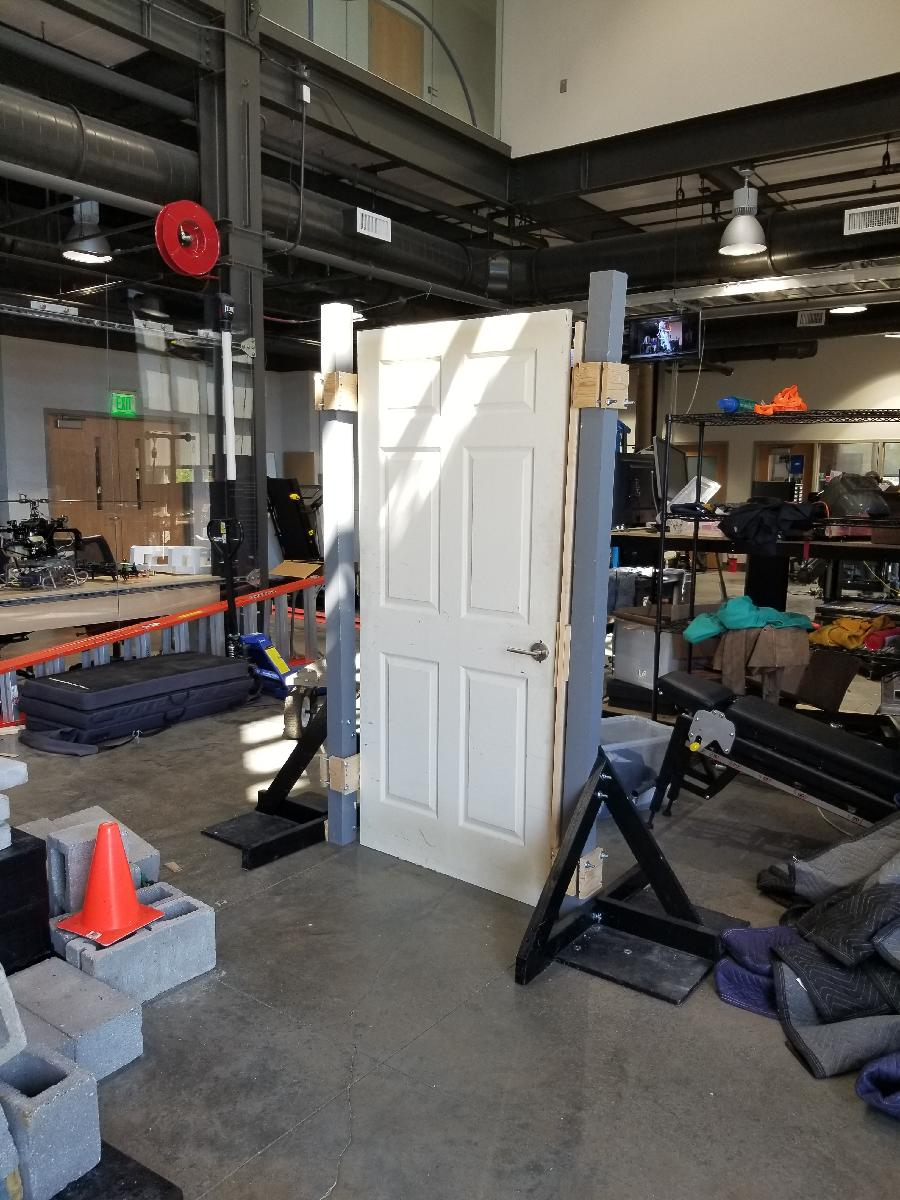door: (356, 308, 579, 930)
doorHandle: (499, 628, 556, 671)
